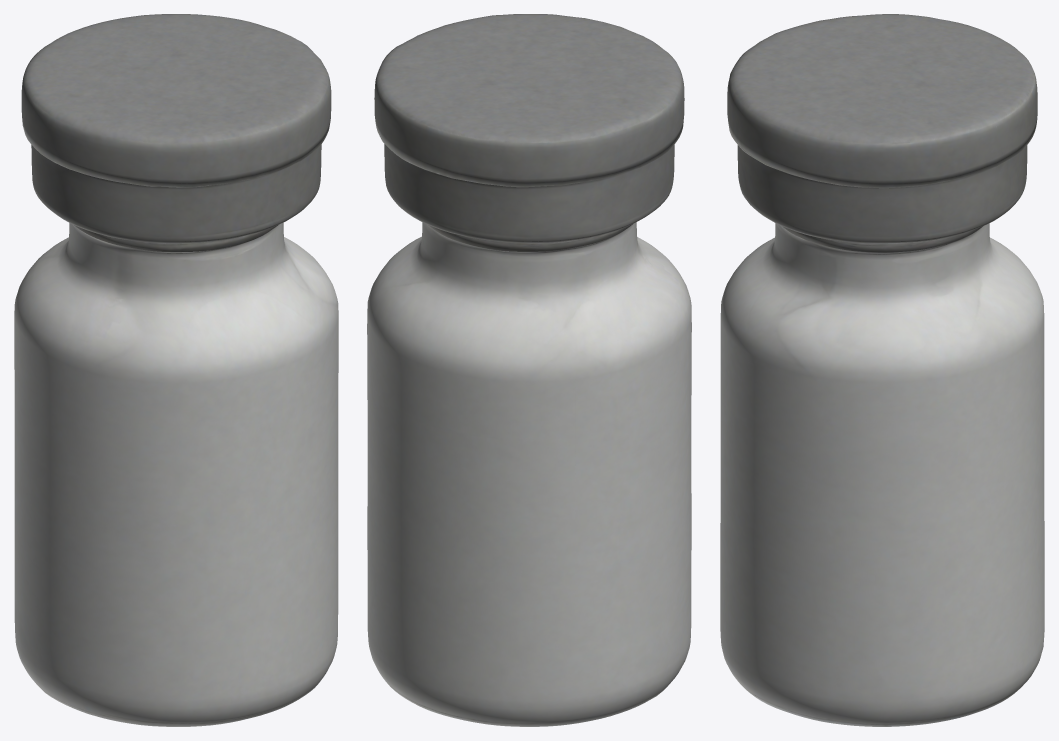
The model's file is tampa_cinza_embedded.glb.
The picture shows the model from 3 angles, left to right: view 1: azimuth 30°, elevation 25°; view 2: azimuth 150°, elevation 25°; view 3: azimuth 270°, elevation 25°; orthographic projection.
Bounding box in the file's own units: 0.9832 × 2 × 0.9871.
1 material, 1 textured.
